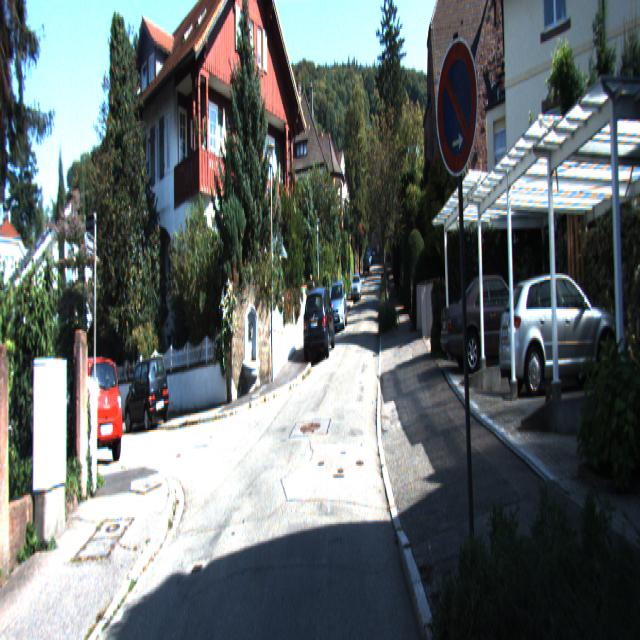Car: (496, 267, 626, 400), (441, 270, 549, 377), (62, 356, 125, 474), (124, 352, 169, 446), (304, 285, 336, 365), (328, 280, 348, 331), (351, 275, 362, 302)
